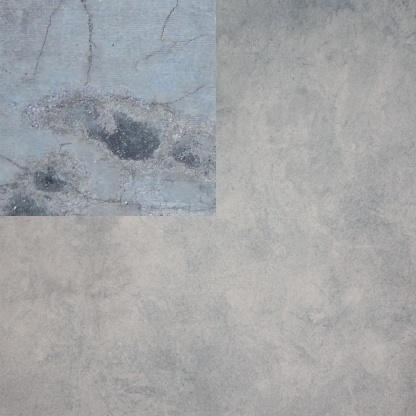Cracks: (25, 0, 91, 82), (55, 163, 199, 200), (125, 0, 179, 63), (128, 71, 199, 102), (0, 128, 33, 163), (0, 32, 9, 56), (0, 167, 17, 179)
